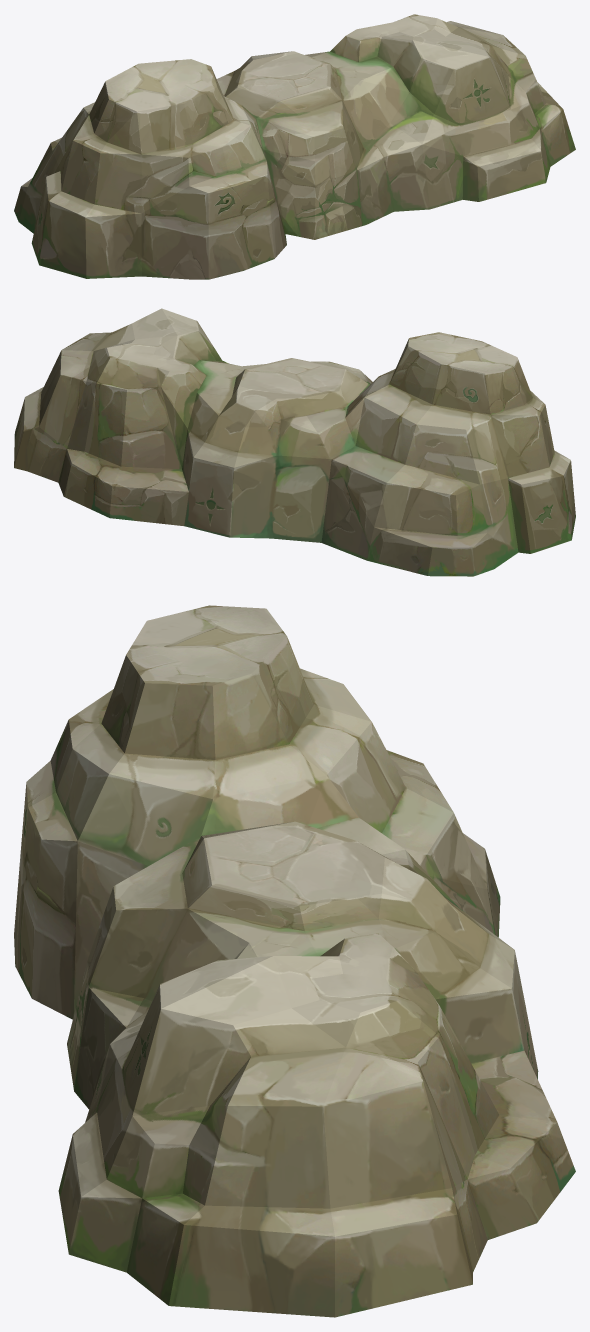
The model's file is map_1003_slst_03.FBX.
3 views of the same model, one above another, from view 1: azimuth 30°, elevation 25°; view 2: azimuth 150°, elevation 25°; view 3: azimuth 270°, elevation 25° (orthographic). The views are drawn at different scales.
Visible parts, largest first — view 1: map_1003_slst_03; view 2: map_1003_slst_03; view 3: map_1003_slst_03.
Boxes of the visible parts, <box> form: map_1003_slst_03: <box>14,14,575,279</box>; map_1003_slst_03: <box>14,308,575,576</box>; map_1003_slst_03: <box>14,605,575,1317</box>.
Size of the model in its own units: 27.18 by 7.91 by 13.3.
